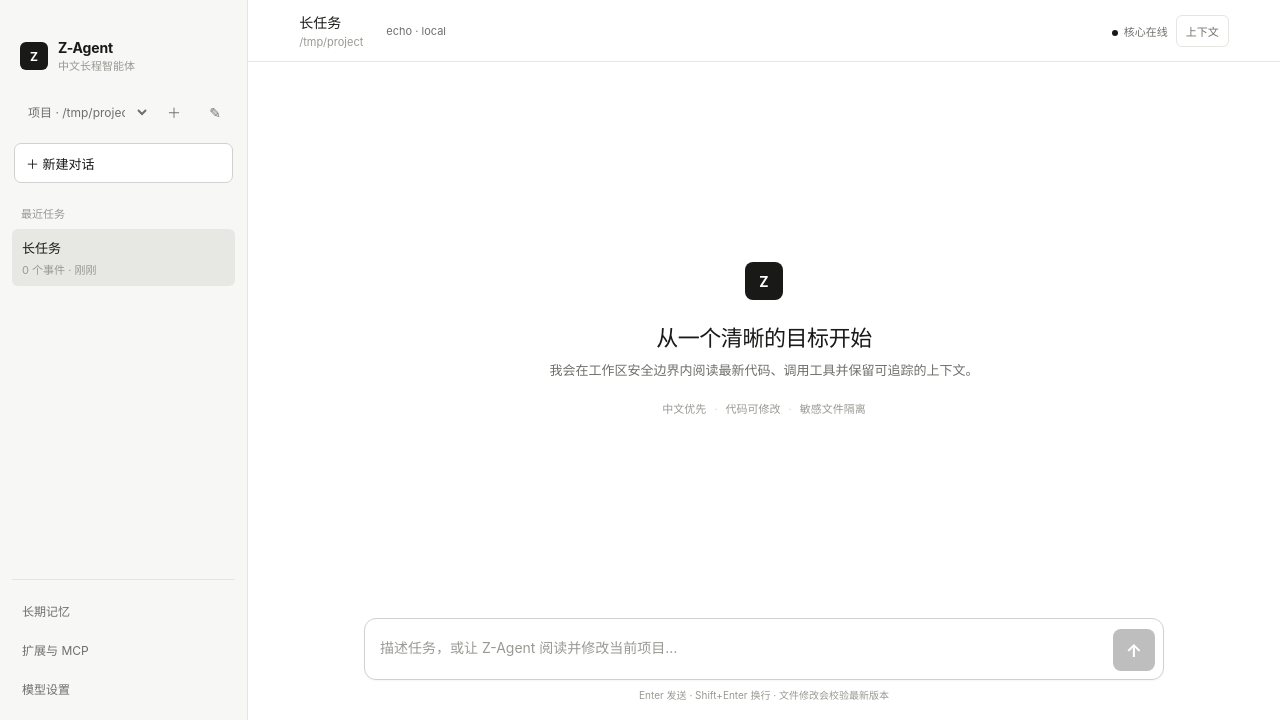
Z-Agent desktop UI › offers one-click continuation from a persisted checkpoint
The image size is (1280, 720).
Expected: the text "长任务" below "最近任务" is shown, x1=22 y1=240 x2=61 y2=256
Type "完成项目" into the text box named "任务输入".
click(742, 649); type("完成项目")  # box x1=380 y1=627 x2=1103 y2=671
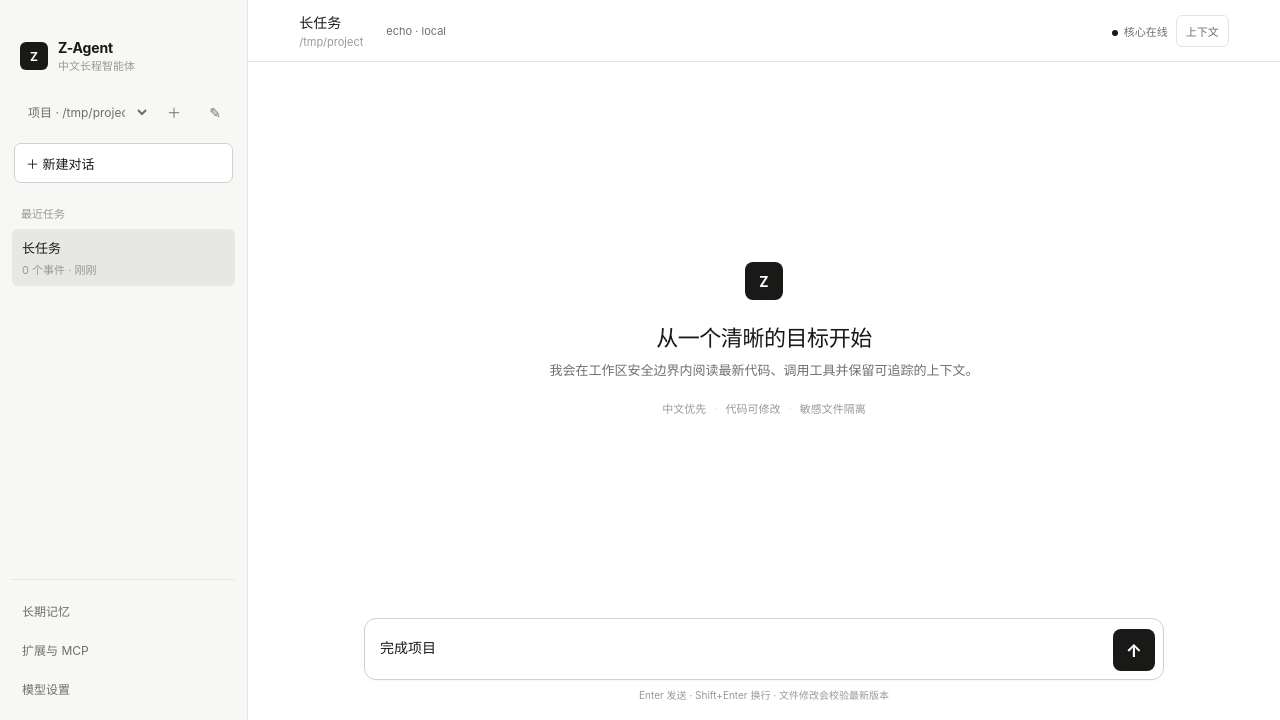
Press Enter in the text box named "任务输入", box x1=380 y1=627 x2=1103 y2=671
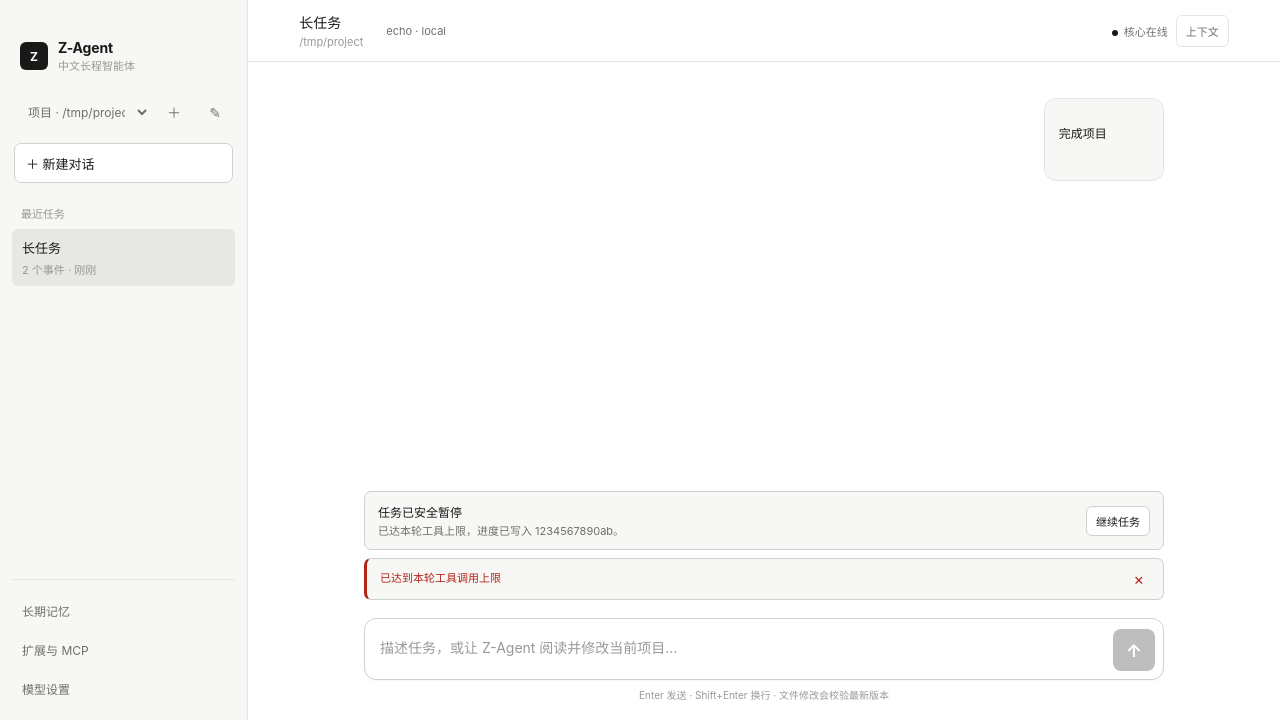
Now the text "已达本轮工具上限，进度已写入 1234567890ab。" is shown, box x1=378 y1=522 x2=624 y2=538
Click the button "继续任务".
click(1118, 520)  # box x1=1086 y1=506 x2=1150 y2=536
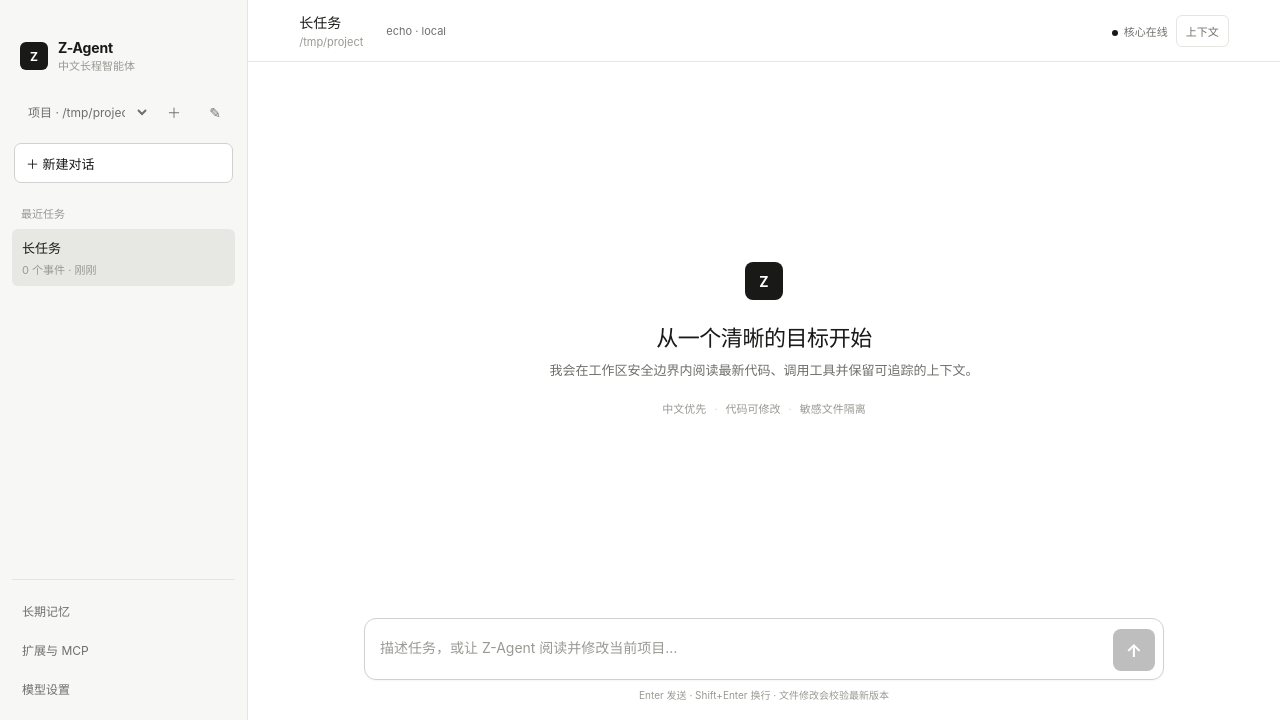
Now the button "继续任务" is gone
